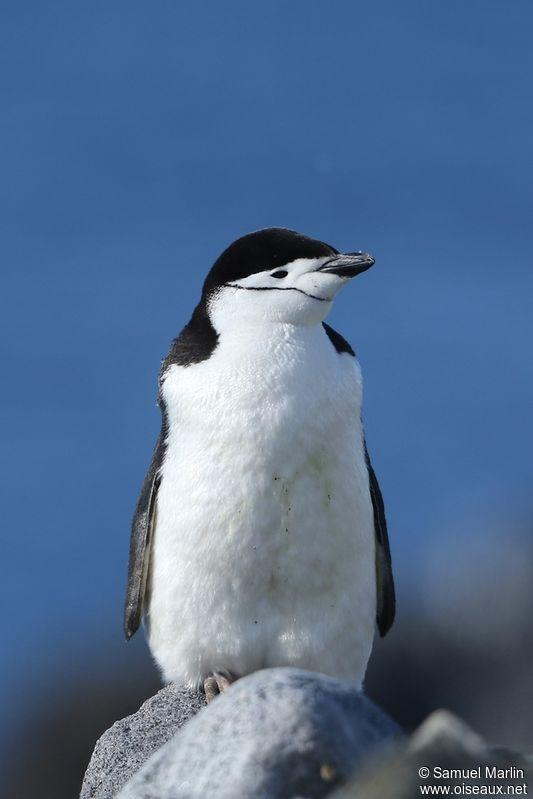chinstrap: (77, 200, 452, 735)
